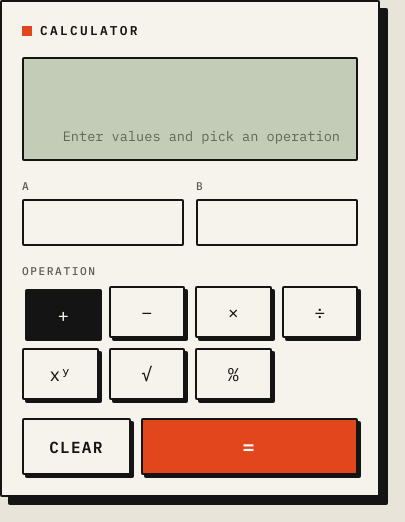
Calculator › shows a friendly message for backend domain errors
Click the button named "Divide" at (320, 312), box [282,286,358,338]
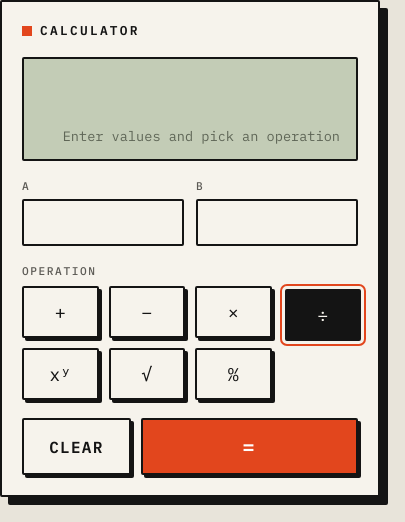
Type "1" into the field labelled "A" at (103, 222), box [22,199,184,246]
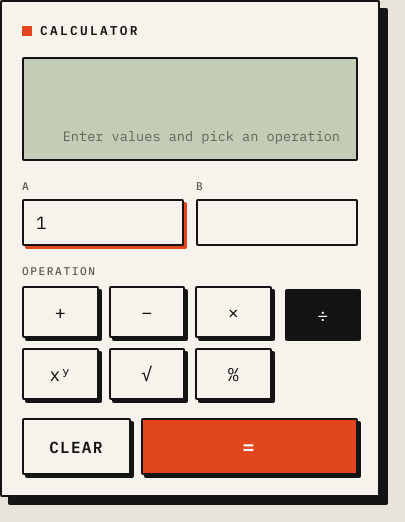
Type "0" into the field labelled "B" at (277, 222), box [196,199,358,246]
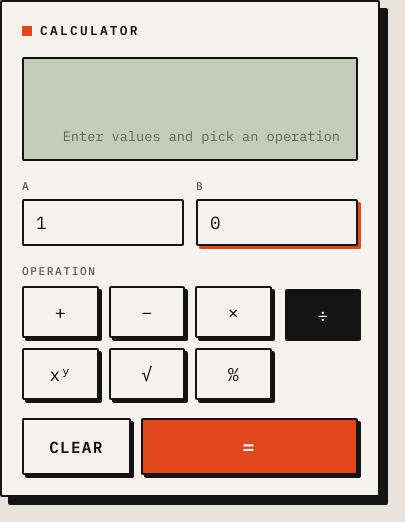
Click the button "=" at (249, 446), box [141,418,358,475]
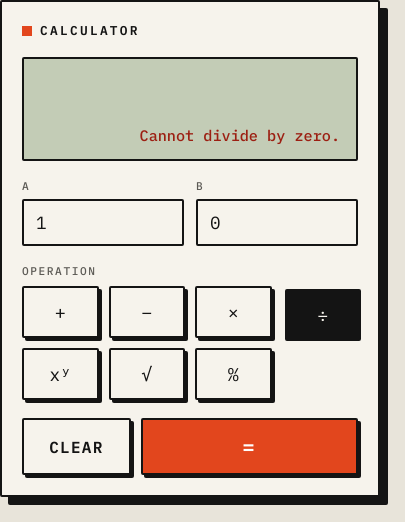
Now the message reads "Cannot divide by zero.", box [140,125,340,145]
